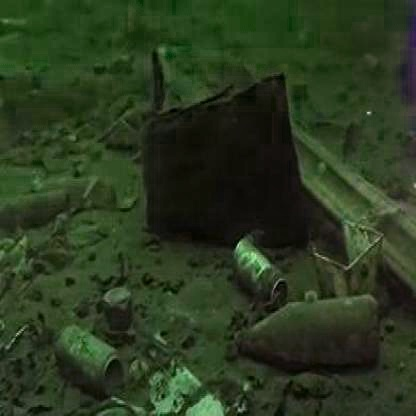can: (222, 228, 312, 344), (50, 296, 141, 402)
